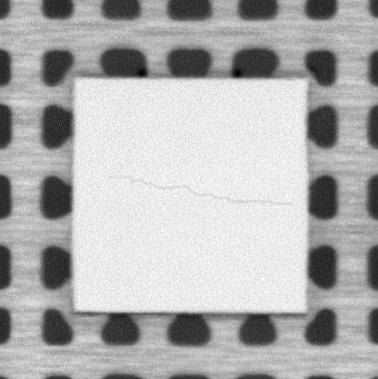DIE_CRACK: (107, 171, 295, 208)
